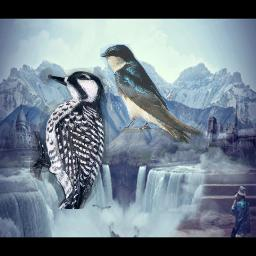Swallow: (100, 44, 203, 144)
Woodpecker: (30, 66, 109, 209)
